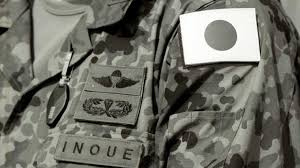Japanese Flag: (176, 8, 265, 66)
